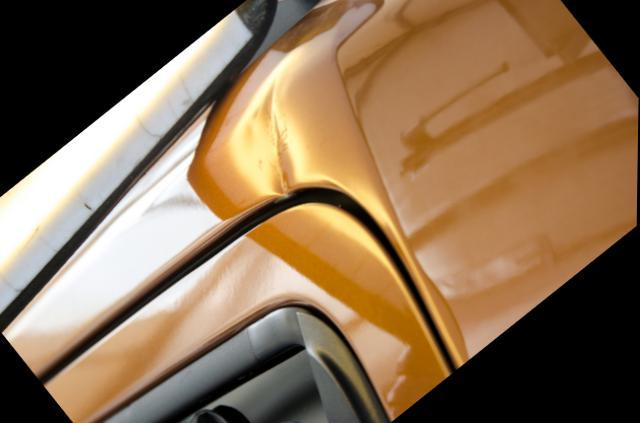dent: (233, 71, 300, 195)
